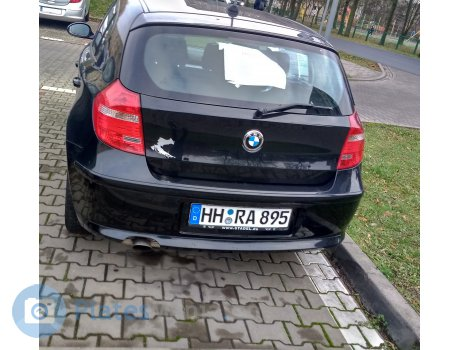License Plates: (199, 206, 292, 227)
